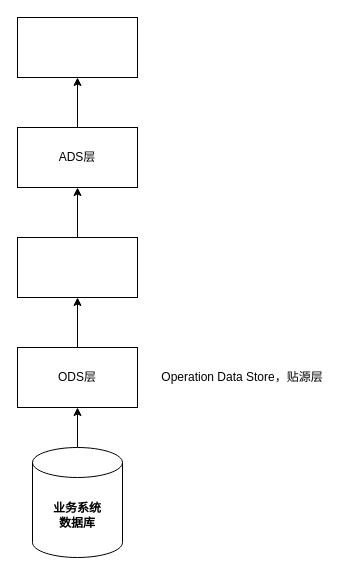
Some shapes in this 350 by 575 pixel diagram are drawn without their labels. The centre of each missing label's shape, as x and y in pixels:
"DSL层" goes at pixel 77 47.
"EDW层" goes at pixel 77 267.
